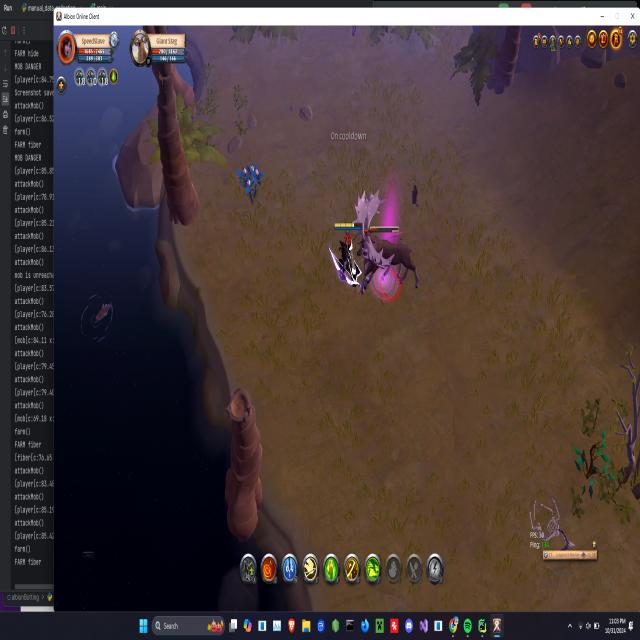hide: (239, 158, 263, 202)
ore: (366, 222, 419, 304)
red: (329, 218, 361, 286)
